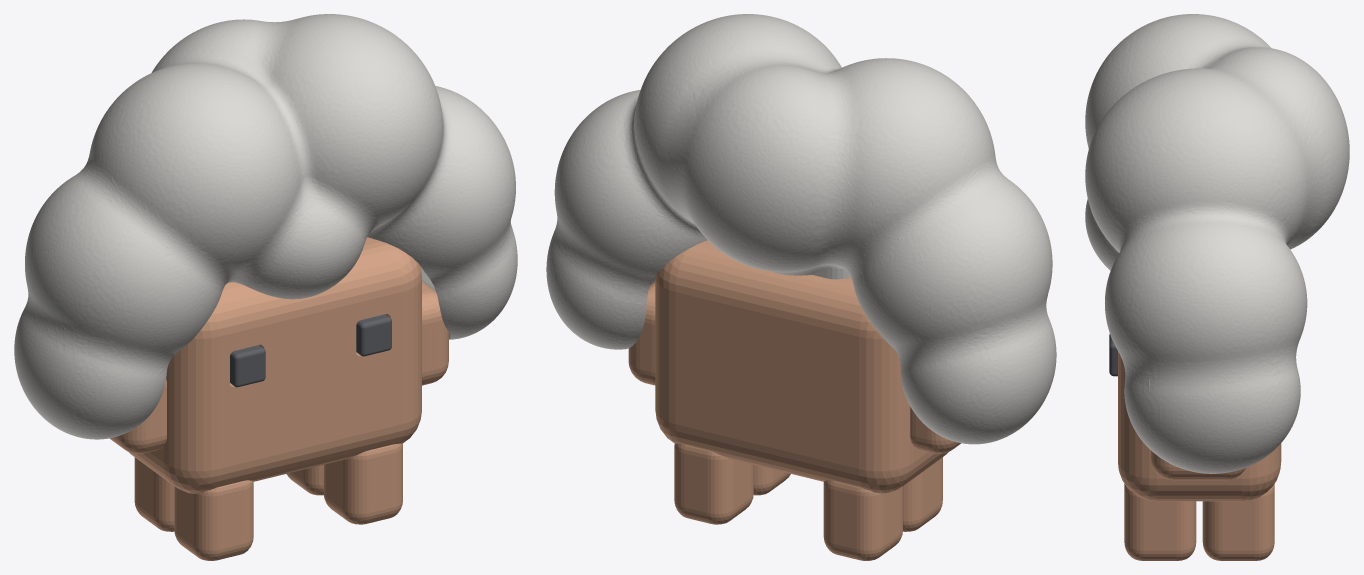
Rendered from A3-v2-assembled.glb.
3 renders of one model, left to right at view 1: azimuth 30°, elevation 25°; view 2: azimuth 150°, elevation 25°; view 3: azimuth 270°, elevation 25°, orthographic.
Parts seen in each view (by area): view 1: A3_cloud_front, A3_clawd, A3_cloud_back, A3_clawd_eye_2, A3_clawd_eye_1; view 2: A3_cloud_back, A3_clawd, A3_cloud_front; view 3: A3_cloud_back, A3_cloud_front, A3_clawd.
Boxes of the visible parts, bbox=[...] form: A3_cloud_front: bbox=[30, 22, 517, 439]; A3_clawd: bbox=[109, 237, 448, 560]; A3_cloud_back: bbox=[14, 14, 476, 426]; A3_clawd_eye_2: bbox=[356, 314, 391, 356]; A3_clawd_eye_1: bbox=[230, 345, 265, 387]; A3_cloud_back: bbox=[546, 22, 1046, 444]; A3_clawd: bbox=[628, 240, 960, 560]; A3_cloud_front: bbox=[608, 14, 1056, 418]; A3_cloud_back: bbox=[1199, 14, 1349, 473]; A3_cloud_front: bbox=[1085, 14, 1199, 472]; A3_clawd: bbox=[1118, 351, 1281, 560].
Size of the model in its own units: 0.0509 by 0.048 by 0.0247.
